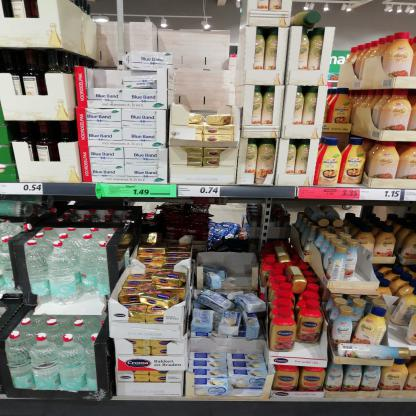prtg: (299, 188, 361, 200), (360, 190, 402, 202), (1, 184, 44, 195), (109, 185, 151, 196), (179, 187, 221, 198), (404, 190, 416, 202)
